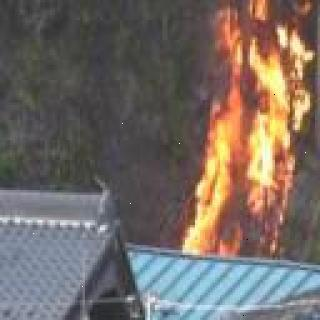fire: (193, 0, 313, 266)
